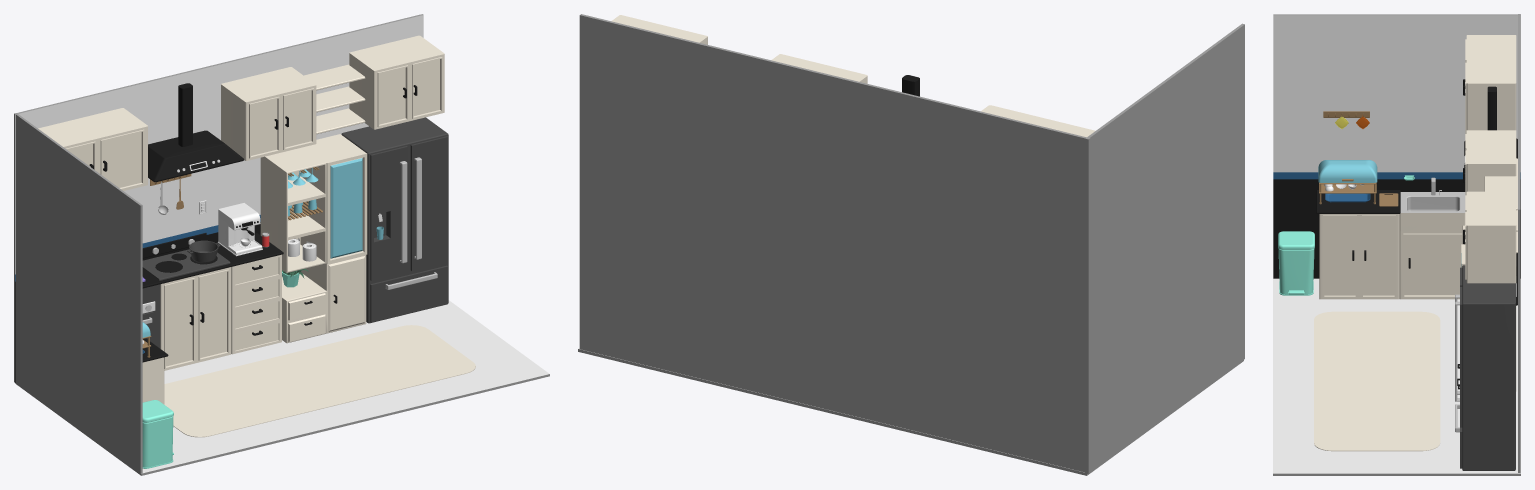
File: Kitchen.fbx
The picture shows the model from 3 angles, left to right: view 1: azimuth 30°, elevation 25°; view 2: azimuth 150°, elevation 25°; view 3: azimuth 270°, elevation 25°; orthographic projection. The views are drawn at different scales.
Visible parts, largest first — view 1: polySurface1265, pCube789, polySurface1306, polySurface1232, polySurface1268, polySurface1274, polySurface1282, polySurface1271, polySurface1277, pCube785, ContainerHouse_02:pCube292, pCube751 (+9 smaller); view 2: polySurface1265, polySurface1271, polySurface1268, polySurface1274; view 3: polySurface1265, pCube789, polySurface1232, polySurface1287, ContainerHouse_02:pCube252, polySurface1274, polySurface1271, polySurface1268, pCube751, polySurface1266, ContainerHouse_02:pCube246, ContainerHouse_02:pCube292 (+6 smaller).
Part boxes in pixels (x1,y1,x2,y2): polySurface1265: (14,14,549,475); pCube789: (164,325,475,437); polySurface1306: (260,134,367,343); polySurface1232: (341,117,448,323); polySurface1268: (221,67,316,160); polySurface1274: (349,35,444,129); polySurface1282: (160,267,231,370); polySurface1271: (38,108,147,190); polySurface1277: (231,254,281,354); pCube785: (148,83,243,182); ContainerHouse_02:pCube292: (304,64,365,134); pCube751: (142,400,173,468); polySurface1265: (578,14,1244,475); polySurface1271: (981,105,1095,137); polySurface1268: (771,54,867,83); polySurface1274: (611,15,707,44); polySurface1265: (1273,14,1520,475); pCube789: (1314,311,1440,451); polySurface1232: (1460,265,1515,470); polySurface1287: (1319,214,1399,299); ContainerHouse_02:pCube252: (1399,192,1465,299); polySurface1274: (1465,191,1516,283); polySurface1271: (1465,35,1516,133); polySurface1268: (1465,130,1516,195); pCube751: (1278,231,1314,295); polySurface1266: (1318,160,1377,182); ContainerHouse_02:pCube246: (1316,190,1400,213); ContainerHouse_02:pCube292: (1484,158,1517,253).
Size of the model in its own units: 19.1 by 12.04 by 10.18.
